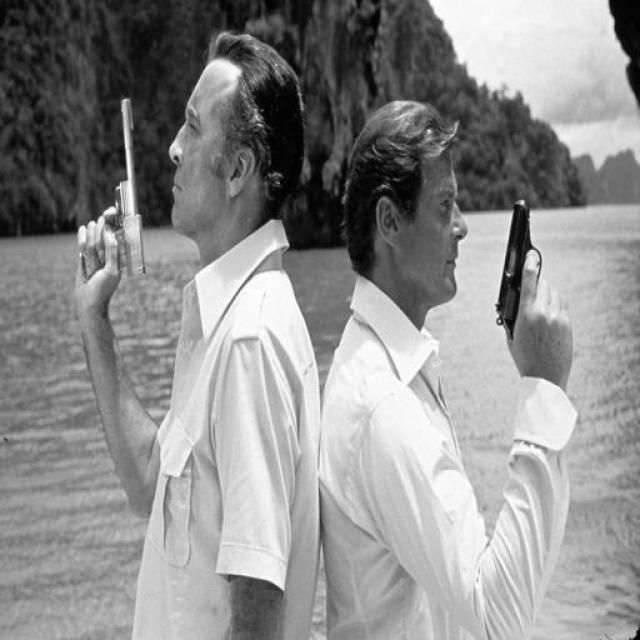pistol: (60, 90, 145, 277), (474, 189, 559, 354)
